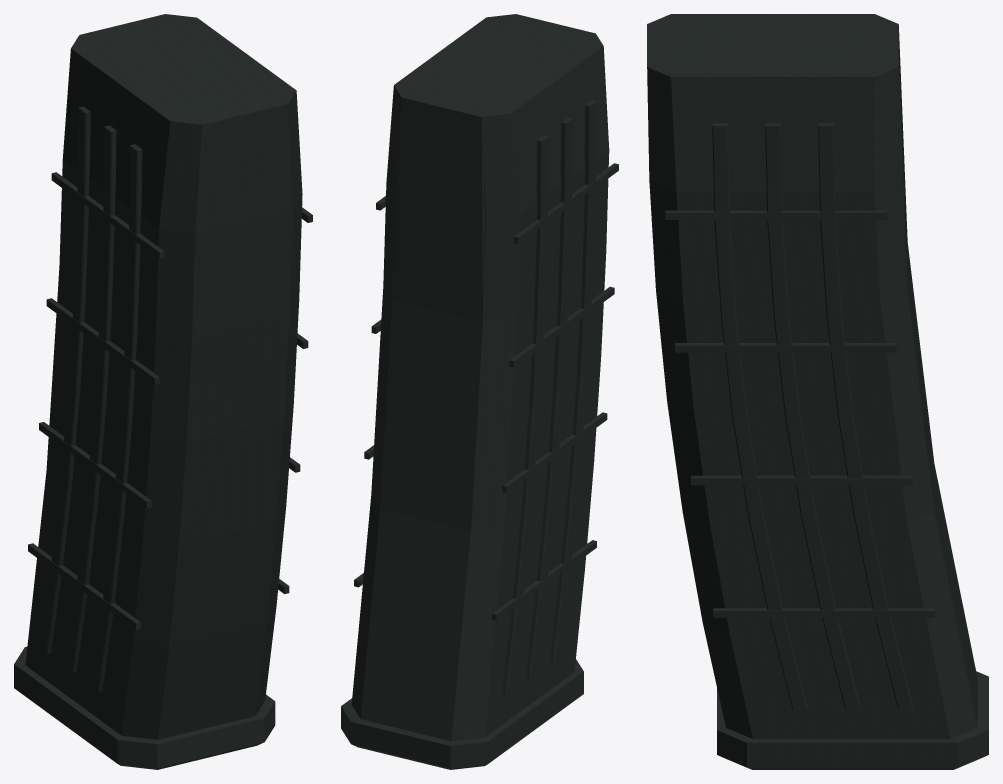
Rendered from saiga_8.glb.
3 views of the same model, side by side, from view 1: azimuth 30°, elevation 25°; view 2: azimuth 150°, elevation 25°; view 3: azimuth 270°, elevation 25° (orthographic). The views are drawn at different scales.
Parts seen in each view (by area): view 1: saiga_8_individual_shell, saiga_8_individual_shell.001; view 2: saiga_8_individual_shell.001, saiga_8_individual_shell; view 3: saiga_8_individual_shell, saiga_8_individual_shell.001.
Part boxes in pixels (<box>): saiga_8_individual_shell: <box>14,14,312,769</box>; saiga_8_individual_shell.001: <box>25,265,155,734</box>; saiga_8_individual_shell.001: <box>351,97,605,741</box>; saiga_8_individual_shell: <box>341,14,618,769</box>; saiga_8_individual_shell: <box>647,14,988,769</box>; saiga_8_individual_shell.001: <box>683,25,977,739</box>.
Bounding box in the file's own units: 0.0957 × 0.389 × 0.1752.
Materials: 1 (1 with a texture image).
